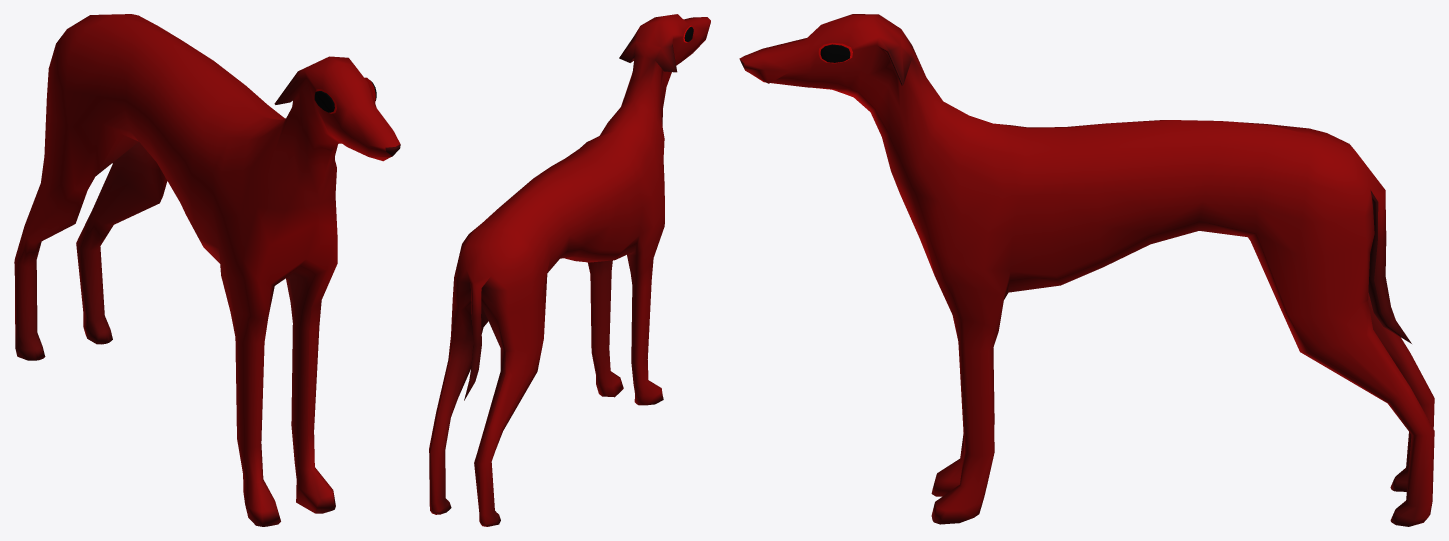
File: Animals_Greyhound.fbx
3 views of the same model, side by side, from view 1: azimuth 30°, elevation 25°; view 2: azimuth 150°, elevation 25°; view 3: azimuth 270°, elevation 25° (orthographic). The views are drawn at different scales.
Visible parts, largest first — view 1: base; view 2: base; view 3: base.
Boxes of the visible parts, <box> form: base: <box>14,14,400,526</box>; base: <box>429,14,710,526</box>; base: <box>739,14,1434,526</box>.
Size of the model in its own units: 19.68 by 86.78 by 112.
